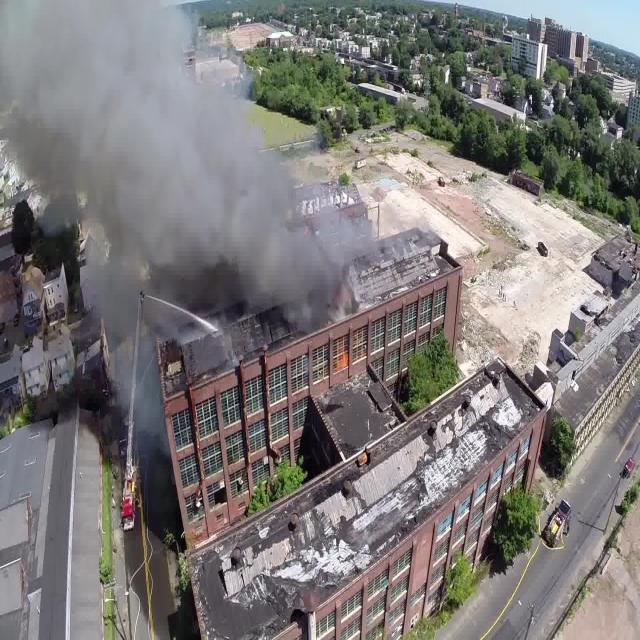Fire: (332, 340, 350, 375)
Smoke: (0, 2, 403, 357)
